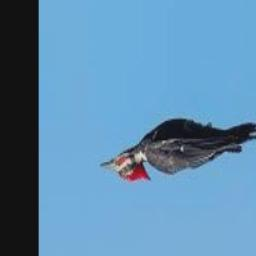Woodpecker: (101, 118, 256, 184)
